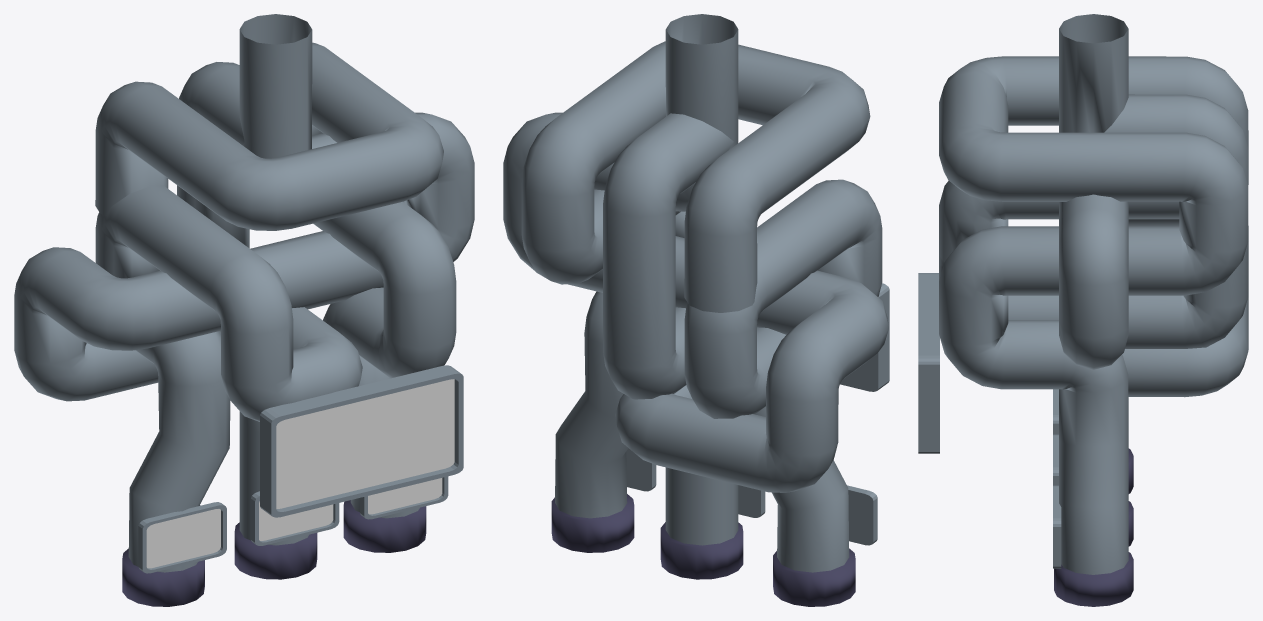
3 views of the same model, side by side, from view 1: azimuth 30°, elevation 25°; view 2: azimuth 150°, elevation 25°; view 3: azimuth 270°, elevation 25° (orthographic). The views are drawn at different scales.
Visible parts, largest first — view 1: Cube.157; view 2: Cube.157; view 3: Cube.157.
Part boxes in pixels (x1=…): Cube.157: x1=14, y1=14, x2=474, y2=606; Cube.157: x1=503, y1=14, x2=889, y2=606; Cube.157: x1=918, y1=14, x2=1248, y2=606.
Size of the model in its own units: 775 by 1016 by 596.
